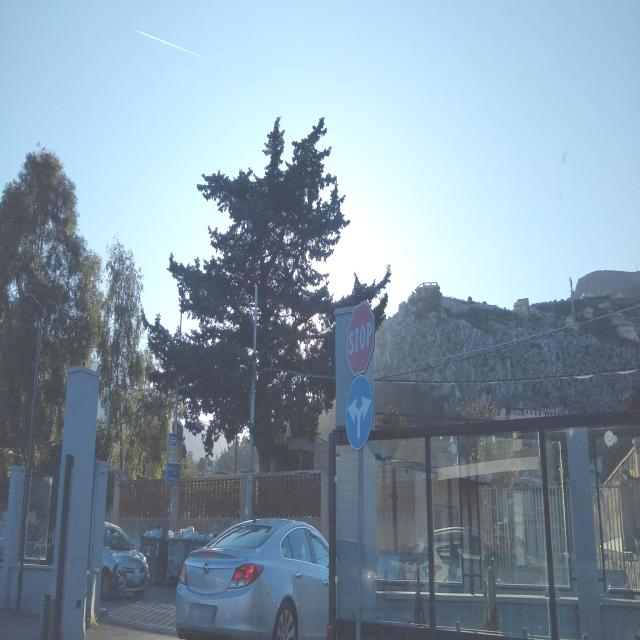car: (174, 516, 329, 638), (101, 519, 150, 603), (33, 531, 55, 565)
